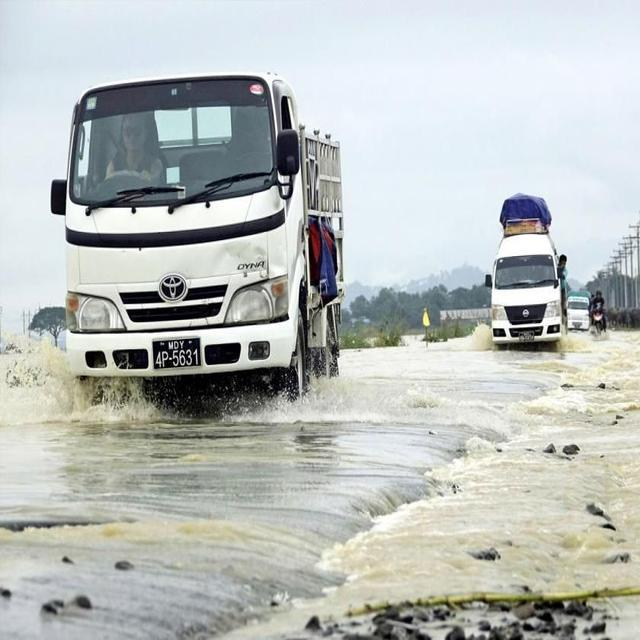Car-RiskLevel2: (39, 63, 356, 393), (488, 191, 570, 350)
